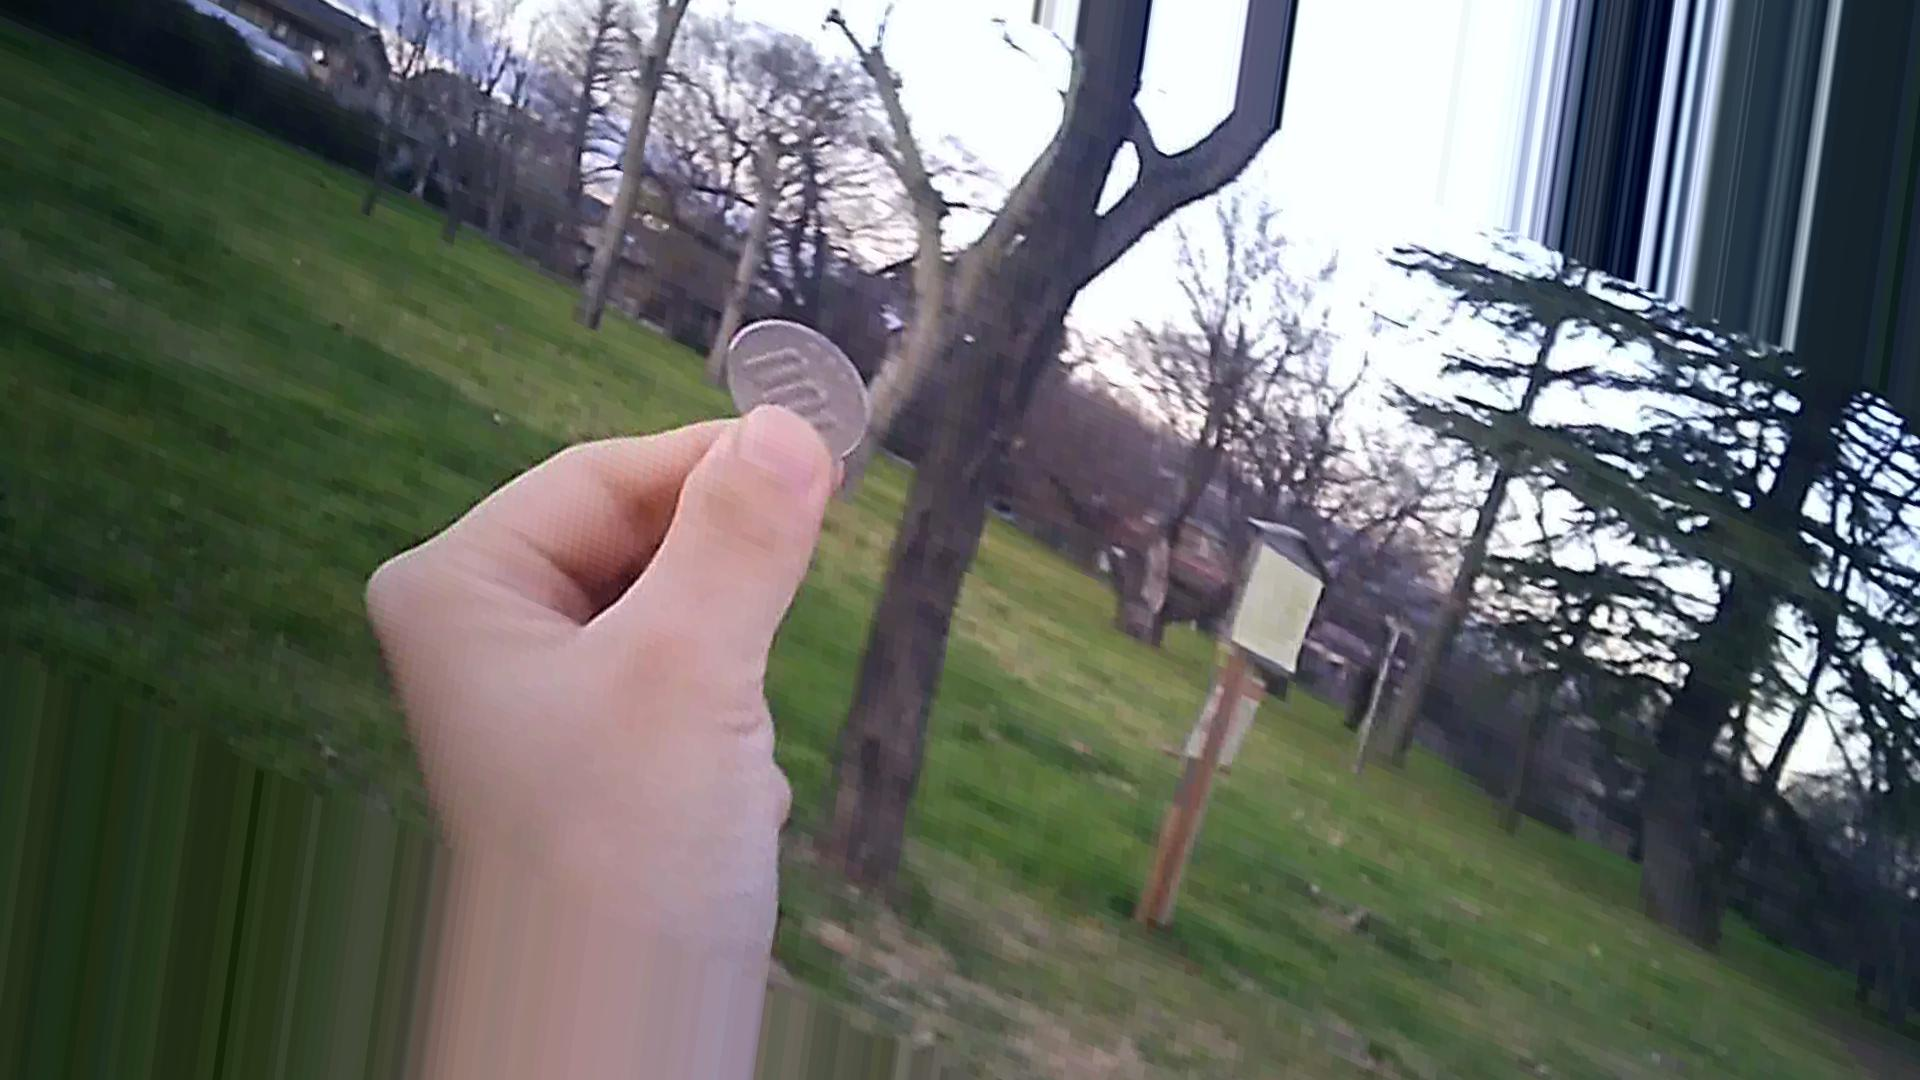100 Yen: (727, 313, 877, 464)
